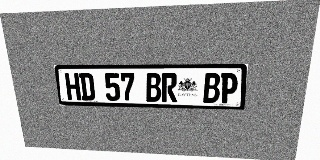5: (104, 73, 121, 101)
7: (119, 73, 136, 101)
B: (203, 73, 221, 103), (145, 73, 161, 102)
D: (79, 73, 95, 101)
H: (64, 73, 81, 100)
P: (220, 73, 238, 103)
R: (161, 73, 177, 102)
